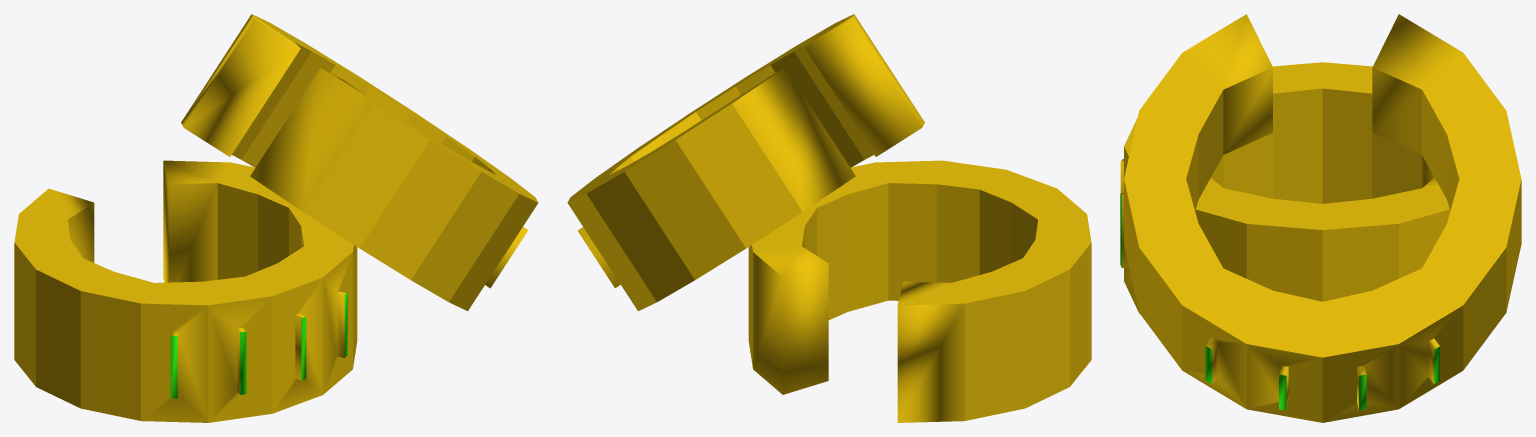
File: GoldEarings.fbx
3 views of the same model, side by side, from view 1: azimuth 30°, elevation 25°; view 2: azimuth 150°, elevation 25°; view 3: azimuth 270°, elevation 25° (orthographic). The views are drawn at different scales.
Visible parts, largest first — view 1: Silver Earring; view 2: Silver Earring; view 3: Silver Earring.
Boxes of the visible parts, x1,y1,x2,y2 form: Silver Earring: (14, 14, 538, 422); Silver Earring: (567, 14, 1091, 422); Silver Earring: (1120, 14, 1521, 422).
Bounding box in the file's own units: 12.7 × 7.2 × 8.07.
